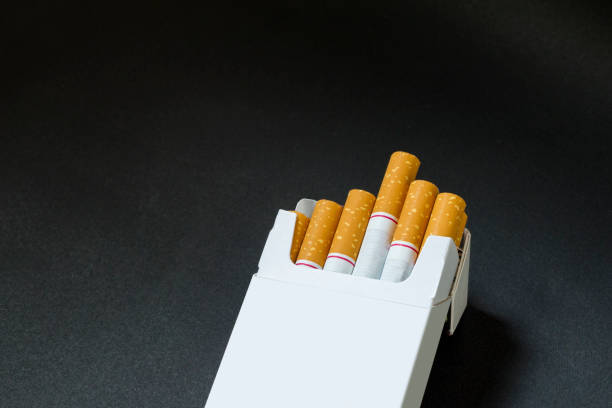cigarette: (203, 207, 470, 408), (354, 150, 422, 279), (379, 178, 440, 282), (323, 188, 377, 275), (296, 198, 344, 271), (422, 191, 467, 237), (288, 210, 311, 266)
